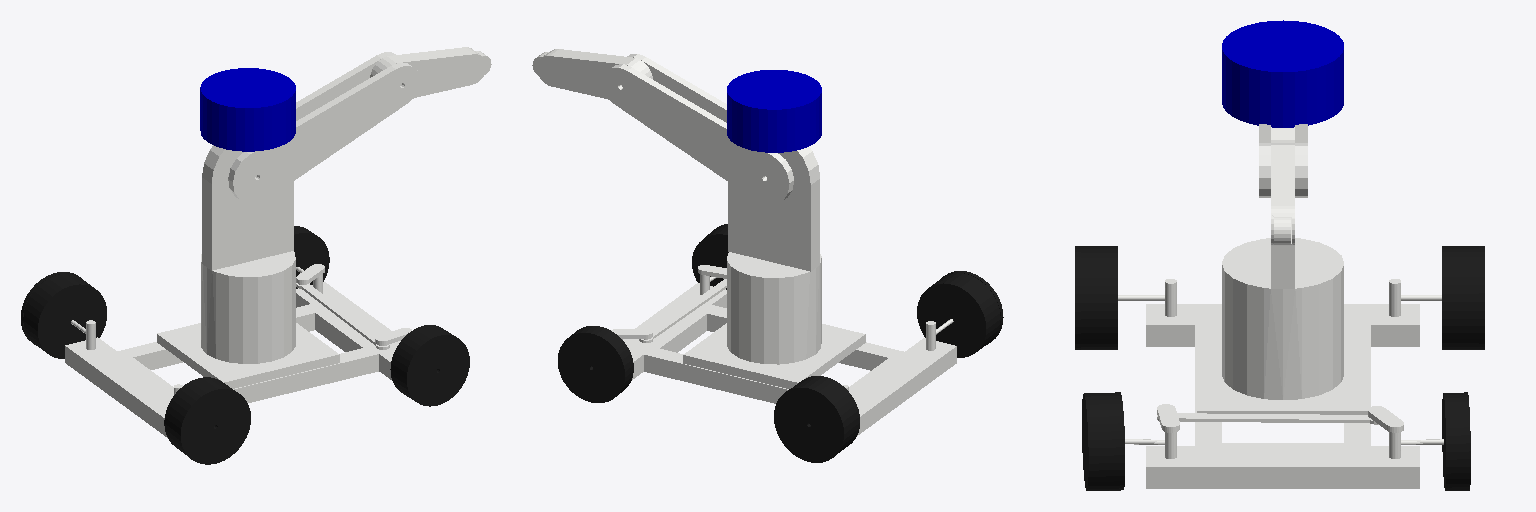
The robot description file, URDF, robot "ros_lva":
<?xml version="1.0" encoding="utf-8"?>
<!-- This URDF was automatically created by SolidWorks to URDF Exporter! Originally created by [author] ([email redacted]) 
     Commit Version: 1.6.0-4-g7f85cfe  Build Version: 1.6.7995.38578
     For more information, please see http://wiki.ros.org/sw_urdf_exporter -->
<robot
  name="ros_lva">
  
  <link name="dummy_root_link">
  </link>

  <joint name="dummy_joint" type="fixed">
  <parent link="dummy_root_link"/>
  <child link="base_link"/>
  <origin xyz="0 0 0" rpy="0 0 0"/>
  </joint>
  
  <link
    name="base_link">
    <inertial>
      <origin
        xyz="0.00959630430752534 -4.59753131624718E-05 0.0914512861464635"
        rpy="0 0 0" />
      <mass
        value="2.09964115614805" />
      <inertia
        ixx="0.019201784582518"
        ixy="-4.29296488428788E-07"
        ixz="-0.00346486881609445"
        iyy="0.0272604310157993"
        iyz="-6.56054217370797E-13"
        izz="0.0142151743467295" />
    </inertial>
    <visual>
      <origin
        xyz="0 0 0"
        rpy="0 0 0" />
      <geometry>
        <mesh
          filename="package://ros_lva/meshes/base_link.STL" />
      </geometry>
      <material
        name="">
        <color
          rgba="0.964705882352941 0.964705882352941 0.952941176470588 1" />
      </material>
    </visual>
    <collision>
      <origin
        xyz="0 0 0"
        rpy="0 0 0" />
      <geometry>
        <mesh
          filename="package://ros_lva/meshes/base_link.STL" />
      </geometry>
    </collision>
  </link>

  <!-- ========== SENSORS ========== -->
  
  <!-- LiDAR Sensor -->
  <link name="lidar_link">
    <inertial>
      <mass value="0.1" />
      <origin xyz="0 0 0" />
      <inertia ixx="0.001" ixy="0" ixz="0" iyy="0.001" iyz="0" izz="0.001" />
    </inertial>
    <visual>
      <geometry>
        <cylinder length="0.05" radius="0.05"/>
      </geometry>
      <material name="blue">
        <color rgba="0 0 0.8 0.5"/>
      </material>
    </visual>
    <collision>
      <geometry>
        <cylinder length="0.05" radius="0.05"/>
      </geometry>
    </collision>
  </link>

<gazebo reference="lidar_link">
  <sensor type="ray" name="lidar_sensor">
    <pose>0 0 0 0 0 0</pose>
    <visualize>true</visualize>
    <update_rate>50</update_rate>
    <ray>
      <scan>
        <horizontal>
          <samples>360</samples>
          <resolution>1</resolution>
          <min_angle>-3.14</min_angle>
          <max_angle>3.14</max_angle>
        </horizontal>
      </scan>
      <range>
        <min>0.1</min>
        <max>10.0</max>
        <resolution>0.01</resolution>
      </range>
    </ray>
    <plugin name="lidar_controller" filename="libgazebo_ros_laser.so">
      <topicName>/scan</topicName>
      <frameName>lidar_link</frameName>
    </plugin>
  </sensor>
</gazebo>
  
  <joint name="lidar_joint" type="fixed">
    <parent link="base_link"/>
    <child link="lidar_link"/>
    <origin xyz="0 0 0.3" rpy="0 0 0"/>
  </joint>
  
  <!-- IMU Sensor -->
  <link name="imu_link">
    <inertial>
      <mass value="0.01" />
      <origin xyz="0 0 0" />
      <inertia ixx="0.0001" ixy="0" ixz="0" iyy="0.0001" iyz="0" izz="0.0001" />
    </inertial>
    <visual>
      <geometry>
        <box size="0.02 0.02 0.005"/>
      </geometry>
      <material name="green">
        <color rgba="0 0.8 0 0.5"/>
      </material>
    </visual>
    <collision>
      <geometry>
        <box size="0.02 0.02 0.005"/>
      </geometry>
    </collision>
  </link>
  
  <joint name="imu_joint" type="fixed">
    <parent link="base_link"/>
    <child link="imu_link"/>
    <origin xyz="0 0 0" rpy="0 0 0"/>
  </joint>
  
  <gazebo reference="imu_link">
    <gravity>true</gravity>
    <sensor name="imu_sensor" type="imu">
      <always_on>true</always_on>
      <update_rate>50</update_rate>
      <visualize>true</visualize>
      <topic>__default_topic__</topic>
      <plugin filename="libgazebo_ros_imu_sensor.so" name="imu_plugin">
        <topicName>imu</topicName>
        <bodyName>imu_link</bodyName>
        <updateRateHZ>5.0</updateRateHZ>
        <gaussianNoise>0.0</gaussianNoise>
        <xyzOffset>0 0 0</xyzOffset>
        <rpyOffset>0 0 0</rpyOffset>
        <frameName>imu_link</frameName>
        <initialOrientationAsReference>false</initialOrientationAsReference>
      </plugin>
      <pose>0 0 0 0 0 0</pose>
    </sensor>
  </gazebo>

  <!-- ========== END OF SENSORS ========== -->

  <!-- Original robot links and joints follow -->
  <link
    name="motor_1_link">
    <inertial>
      <origin
        xyz="-2.88657986402541E-15 -1.84852133600089E-14 0.0150000000000159"
        rpy="0 0 0" />
      <mass
        value="0.150319317988046" />
      <inertia
        ixx="7.15919239311505E-05"
        ixy="-8.76531980780818E-21"
        ixz="5.66270605179704E-20"
        iyy="7.15919239311505E-05"
        iyz="7.79270311473959E-20"
        izz="0.000120635950164094" />
    </inertial>
    <visual>
      <origin
        xyz="0 0 0"
        rpy="0 0 0" />
      <geometry>
        <mesh
          filename="package://ros_lva/meshes/motor_1_link.STL" />
      </geometry>
      <material
        name="">
        <color
          rgba="0.152941176470588 0.152941176470588 0.152941176470588 1" />
      </material>
    </visual>
    <collision>
      <origin
        xyz="0 0 0"
        rpy="0 0 0" />
      <geometry>
        <mesh
          filename="package://ros_lva/meshes/motor_1_link.STL" />
      </geometry>
    </collision>
  </link>
  <joint
    name="motor_1_joint"
    type="continuous">
    <origin
      xyz="0.134178914960515 -0.131259427651041 0.0325000001862693"
      rpy="1.64138135453709 -1.5707963267949 0" />
    <parent
      link="base_link" />
    <child
      link="motor_1_link" />
    <axis
      xyz="0 0 1" />
    <initial_velocity>0</initial_velocity>
    <limit effort="100" velocity="100"/>
  </joint>

  <link
    name="motor_2_link">
    <inertial>
      <origin
        xyz="-2.77555756156289E-16 9.43689570931383E-15 0.0100000000000077"
        rpy="0 0 0" />
      <mass
        value="0.100212878658698" />
      <inertia
        ixx="4.35524126766547E-05"
        ixy="-6.64093340920902E-23"
        ixz="5.37841223641712E-20"
        iyy="4.35524126766547E-05"
        iyz="-7.83505476210225E-21"
        izz="8.04239667760629E-05" />
    </inertial>
    <visual>
      <origin
        xyz="0 0 0"
        rpy="0 0 0" />
      <geometry>
        <mesh
          filename="package://ros_lva/meshes/motor_2_link.STL" />
      </geometry>
      <material
        name="">
        <color
          rgba="0.152941176470588 0.152941176470588 0.152941176470588 1" />
      </material>
    </visual>
    <collision>
      <origin
        xyz="0 0 0"
        rpy="0 0 0" />
      <geometry>
        <mesh
          filename="package://ros_lva/meshes/motor_2_link.STL" />
      </geometry>
    </collision>
  </link>
  <joint
    name="motor_2_joint"
    type="continuous">
    <origin
      xyz="0.135220633411976 0.131319122866016 0.0325000000000013"
      rpy="1.6152949297173 -1.57079631189374 3.14159265358979" />
    <parent
      link="base_link" />
    <child
      link="motor_2_link" />
    <axis
      xyz="0 0 1" />
    <initial_velocity>0</initial_velocity>
    <limit effort="100" velocity="100"/>
  </joint>
  
  <link
    name="motor_3_link">
    <inertial>
      <origin
        xyz="-2.77555756156289E-16 -0.0175534607279839 -5.55111512312578E-17"
        rpy="0 0 0" />
      <mass
        value="0.194786013053384" />
      <inertia
        ixx="0.000106735850189812"
        ixy="4.75890786848443E-20"
        ixz="-4.43078487320501E-21"
        iyy="0.000173530446096348"
        iyz="-1.16965486592598E-20"
        izz="0.000106735850189812" />
    </inertial>
    <visual>
      <origin
        xyz="0 0 0"
        rpy="0 0 0" />
      <geometry>
        <mesh
          filename="package://ros_lva/meshes/motor_3_link.STL" />
      </geometry>
      <material
        name="">
        <color
          rgba="0.152941176470588 0.152941176470588 0.152941176470588 1" />
      </material>
    </visual>
    <collision>
      <origin
        xyz="0 0 0"
        rpy="0 0 0" />
      <geometry>
        <mesh
          filename="package://ros_lva/meshes/motor_3_link.STL" />
      </geometry>
    </collision>
  </link>
  <joint
    name="motor_3_joint"
    type="continuous">
    <origin
      xyz="-0.137000002041459 -0.134779185286445 0.035000000223518"
      rpy="0 0 0" />
    <parent
      link="base_link" />
    <child
      link="motor_3_link" />
    <axis
      xyz="0 1 0" />
    <initial_velocity>0</initial_velocity>
    <limit effort="100" velocity="100"/>
  </joint>
  
  <link
    name="motor_4_link">
    <inertial>
      <origin
        xyz="4.71844785465692E-16 -2.22044604925031E-16 0.0175490498963177"
        rpy="0 0 0" />
      <mass
        value="0.195157920670944" />
      <inertia
        ixx="0.000107096548277091"
        ixy="-3.71313622156512E-22"
        ixz="-6.5501937985983E-22"
        iyy="0.000107096548277091"
        iyz="-1.92720844967161E-20"
        izz="0.000174189752212176" />
    </inertial>
    <visual>
      <origin
        xyz="0 0 0"
        rpy="0 0 0" />
      <geometry>
        <mesh
          filename="package://ros_lva/meshes/motor_4_link.STL" />
      </geometry>
      <material
        name="">
        <color
          rgba="0.152941176470588 0.152941176470588 0.152941176470588 1" />
      </material>
    </visual>
    <collision>
      <origin
        xyz="0 0 0"
        rpy="0 0 0" />
      <geometry>
        <mesh
          filename="package://ros_lva/meshes/motor_4_link.STL" />
      </geometry>
    </collision>
  </link>
  <joint
    name="motor_4_joint"
    type="continuous">
    <origin
      xyz="-0.137000002041459 0.129779185286445 0.0350000002235178"
      rpy="-1.5707963267949 0 0" />
    <parent
      link="base_link" />
    <child
      link="motor_4_link" />
    <axis
      xyz="0 0 1" />
    <initial_velocity>0</initial_velocity>
    <limit effort="100" velocity="100"/>
  </joint>
  
  <link
    name="arm_1_link">
    <inertial>
      <origin
        xyz="0.0314127322588624 0.00290972363297182 -0.02"
        rpy="0 0 0" />
      <mass
        value="0.0634955445899674" />
      <inertia
        ixx="1.38385780420671E-05"
        ixy="-5.57615280414192E-06"
        ixz="-5.54899997030101E-21"
        iyy="8.10969916175943E-05"
        iyz="2.15970945062943E-21"
        izz="8.95775997945737E-05" />
    </inertial>
    <visual>
      <origin
        xyz="0 0 0"
        rpy="0 0 0" />
      <geometry>
        <mesh
          filename="package://ros_lva/meshes/arm_1_link.STL" />
      </geometry>
      <material
        name="">
        <color
          rgba="0.964705882352941 0.964705882352941 0.952941176470588 1" />
      </material>
    </visual>
    <collision>
      <origin
        xyz="0 0 0"
        rpy="0 0 0" />
      <geometry>
        <mesh
          filename="package://ros_lva/meshes/arm_1_link.STL" />
      </geometry>
    </collision>
  </link>
  <joint
    name="arm_1_joint"
    type="revolute">
    <origin
      xyz="0.175 0.02 0.295"
      rpy="-1.5707963267949 0 0" />
    <parent
      link="base_link" />
    <child
      link="arm_1_link" />
    <axis
      xyz="0 0 1" />
    <limit lower="-3.14159" upper="3.14159" effort="100" velocity="10" />
    <initial_position>0.0</initial_position>
    <dynamics damping="0.1" friction="0.5"/>
  </joint>
  <link
    name="arm_2_link">
    <inertial>
      <origin
        xyz="1.11022302462516E-16 -0.00700000000000003 -2.22044604925031E-16"
        rpy="0 0 0" />
      <mass
        value="0.0317267253948186" />
      <inertia
        ixx="2.42025358991646E-05"
        ixy="-8.29824132164272E-23"
        ixz="-3.77194359324181E-21"
        iyy="2.51692148319294E-05"
        iyz="2.91118549626734E-22"
        izz="2.00308529566217E-06" />
    </inertial>
    <visual>
      <origin
        xyz="0 0 0"
        rpy="0 0 0" />
      <geometry>
        <mesh
          filename="package://ros_lva/meshes/arm_2_link.STL" />
      </geometry>
      <material
        name="">
        <color
          rgba="0.964705882352941 0.964705882352941 0.952941176470588 1" />
      </material>
    </visual>
    <collision>
      <origin
        xyz="0 0 0"
        rpy="0 0 0" />
      <geometry>
        <mesh
          filename="package://ros_lva/meshes/arm_2_link.STL" />
      </geometry>
    </collision>
  </link>
  <joint
    name="arm_2_joint"
    type="prismatic">
    <origin
      xyz="0.0646557908940664 0.00363864195729879 -0.013499999895692"
      rpy="1.5707963267949 0 1.64245689139526" />
    <parent
      link="arm_1_link" />
    <child
      link="arm_2_link" />
    <axis
      xyz="0 0 1" />
    <limit lower="0" upper="0.07" effort="100" velocity="10" />
    <initial_position>0.0</initial_position>
    <dynamics damping="0.1" friction="0.5"/>
  </joint>
  
  <!-- ========== ROS CONTROL ========== -->
  
  <gazebo>
  <plugin name="gazebo_ros_control" filename="libgazebo_ros_control.so"/>
  </gazebo>

  <!-- Arm 1 -->
  <transmission name="arm_1_trans">
  <type>transmission_interface/SimpleTransmission</type>
  <joint name="arm_1_joint">
    <hardwareInterface>hardware_interface/PositionJointInterface</hardwareInterface>
  </joint>
  <actuator name="arm_1_motor">
    <mechanicalReduction>1</mechanicalReduction>
  </actuator>
  </transmission>

  <!-- Arm 2 -->
  <transmission name="arm_2_trans">
  <type>transmission_interface/SimpleTransmission</type>
  <joint name="arm_2_joint">
    <hardwareInterface>hardware_interface/PositionJointInterface</hardwareInterface>
  </joint>
  <actuator name="arm_2_motor">
    <mechanicalReduction>1</mechanicalReduction>
  </actuator>
  </transmission>
 
  <gazebo>
  <plugin name="differential_drive_controller_1" filename="libgazebo_ros_diff_drive.so">
    <leftJoint>motor_4_joint</leftJoint>   
    <rightJoint>motor_3_joint</rightJoint> 
    
    <commandTopic>cmd_vel</commandTopic>
    <odometryTopic>odom</odometryTopic>
    <odometryFrame>odom</odometryFrame>
    <odometrySource>world</odometrySource>
    <publishOdomTF>true</publishOdomTF>
    <publishWheelTF>false</publishWheelTF>
    <publishTf>true</publishTf>
    <publishWheelJointState>true</publishWheelJointState>
    <legacyMode>false</legacyMode>
    <updateRate>50</updateRate>
    <wheelSeparation>0.266137</wheelSeparation>
    <wheelDiameter>0.0852</wheelDiameter>
    <robotBaseFrame>base_link</robotBaseFrame>
    <wheelAcceleration>1</wheelAcceleration>
    <wheelTorque>10</wheelTorque>
    <rosDebugLevel>na</rosDebugLevel>        
  </plugin>
  </gazebo>
  
  <gazebo>
  <plugin name="differential_drive_controller_22" filename="libgazebo_ros_diff_drive.so">
    <leftJoint>motor_2_joint</leftJoint>   
    <rightJoint>motor_1_joint</rightJoint> 
    
    <commandTopic>cmd_vel</commandTopic>
    <odometryTopic>odom</odometryTopic>
    <odometryFrame>odom</odometryFrame>
    <odometrySource>world</odometrySource>
    <publishOdomTF>true</publishOdomTF>
    <publishWheelTF>false</publishWheelTF>
    <publishTf>true</publishTf>
    <publishWheelJointState>true</publishWheelJointState>
    <legacyMode>false</legacyMode>
    <updateRate>50</updateRate>
    <wheelSeparation>0.260605</wheelSeparation>
    <wheelDiameter>0.08</wheelDiameter>
    <robotBaseFrame>base_link</robotBaseFrame>
    <wheelAcceleration>1</wheelAcceleration>
    <wheelTorque>10</wheelTorque>
    <rosDebugLevel>na</rosDebugLevel>         
  </plugin>
  </gazebo>
  
</robot>

--- What the picture shows (computed from the rendered views, not written in the file) ---
3 views of the same robot in one strip: view 1: azimuth 30°, elevation 25°; view 2: azimuth 150°, elevation 25°; view 3: azimuth 270°, elevation 25° (orthographic).
Model ros_lva with 10 links and 9 joints (1 revolute, 4 continuous, 1 prismatic, 3 fixed), rooted at dummy_root_link, posed every joint at zero.
Links seen in each view (by area): view 1: base_link, lidar_link, motor_3_link, motor_4_link, motor_1_link, arm_1_link, motor_2_link; view 2: base_link, lidar_link, motor_4_link, motor_3_link, motor_2_link, arm_1_link, motor_1_link; view 3: base_link, lidar_link, motor_3_link, motor_4_link, motor_1_link, motor_2_link, arm_1_link.
Link boxes in pixels (x1,y1,x2,y2): base_link: [65, 52, 420, 437]; lidar_link: [200, 68, 295, 151]; motor_3_link: [164, 377, 250, 464]; motor_4_link: [21, 272, 106, 358]; motor_1_link: [390, 325, 469, 406]; arm_1_link: [370, 47, 486, 97]; motor_2_link: [294, 226, 329, 288]; base_link: [602, 54, 956, 435]; lidar_link: [727, 70, 821, 152]; motor_4_link: [774, 376, 859, 462]; motor_3_link: [917, 271, 1003, 357]; motor_2_link: [558, 326, 633, 402]; arm_1_link: [537, 49, 652, 99]; motor_1_link: [692, 224, 728, 289]; base_link: [1118, 124, 1443, 488]; lidar_link: [1222, 20, 1343, 127]; motor_3_link: [1075, 246, 1117, 349]; motor_4_link: [1442, 246, 1484, 349]; motor_1_link: [1082, 392, 1124, 490]; motor_2_link: [1442, 392, 1470, 490]; arm_1_link: [1271, 143, 1294, 245].
Bounding box of the posed robot: 0.4689 × 0.3346 × 0.3325 m (x, y, z).
Meshes: 7 distinct files referenced, 7 mesh visuals loaded (7 binary STL).
